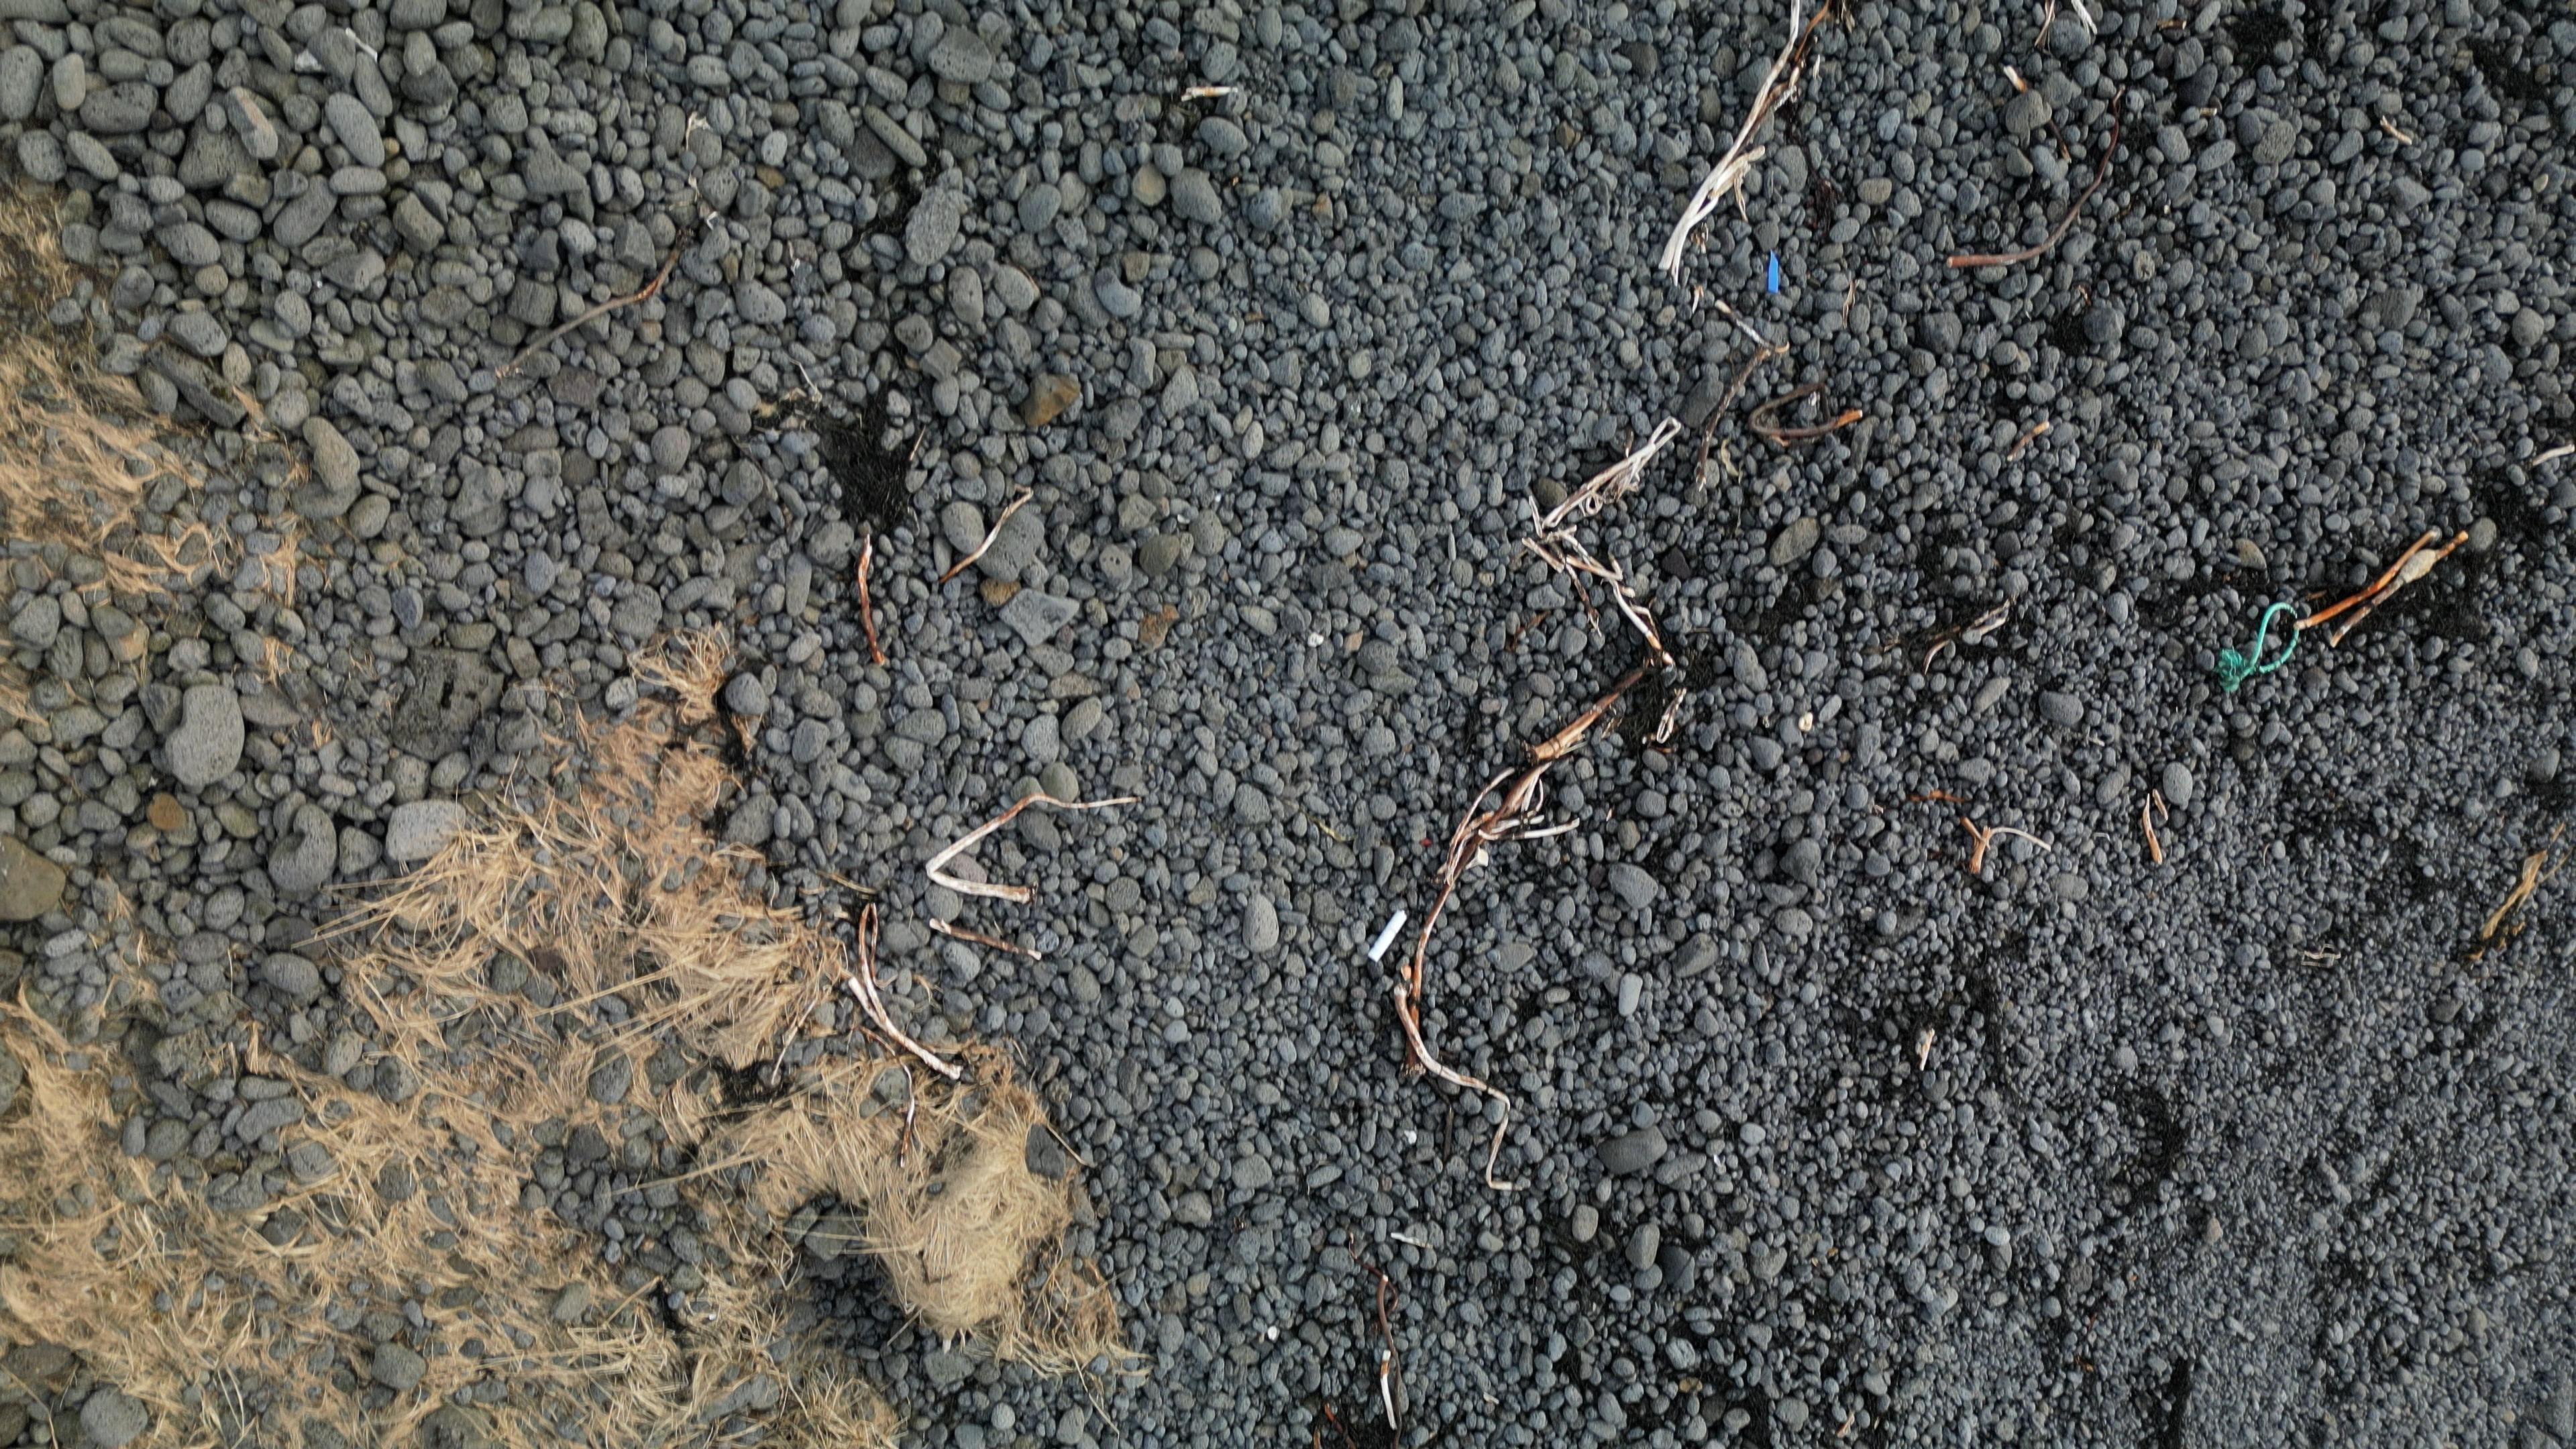trash: (2219, 603, 2300, 694), (1369, 911, 1403, 961), (1766, 251, 1782, 297)
